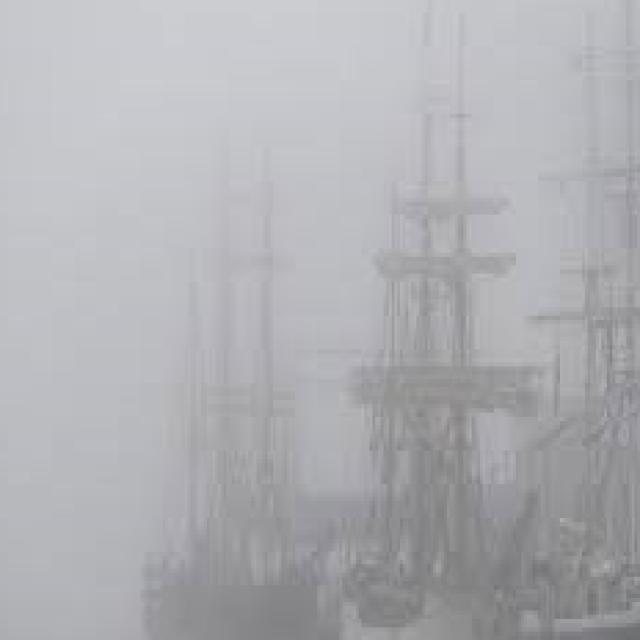fishing boat: (348, 0, 544, 640), (135, 80, 337, 640), (502, 0, 640, 640)
